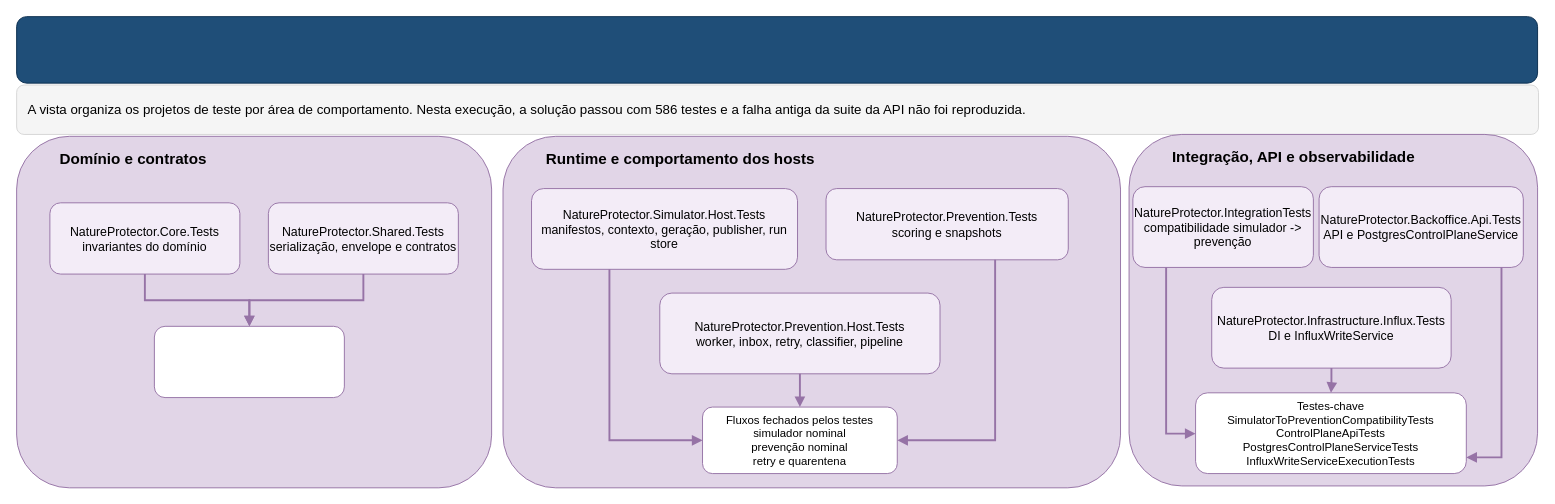
The diagram is 1555 pixels wide and 504 high, and some of its shapes have lost their labels. Here are the shapes that lost their labels. From the top down, the centre of each, then its label:
At point 777,49: "Testes como especificação executável da implementação atual".
At point 248,361: "Testes-chave GridCellTests JsonEventSerializerTests".
